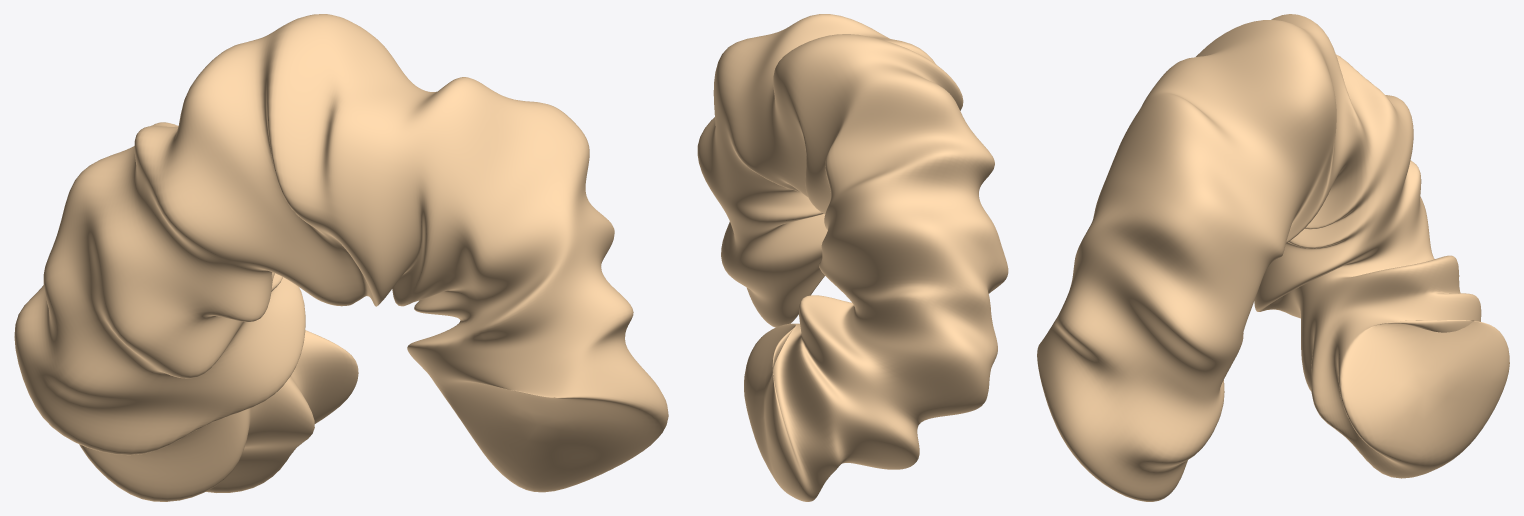
Rendered from form_8.glb.
3 renders of one model, left to right at view 1: azimuth 30°, elevation 25°; view 2: azimuth 150°, elevation 25°; view 3: azimuth 270°, elevation 25°, orthographic. The views are drawn at different scales.
Visible parts, largest first — view 1: Cube; view 2: Cube; view 3: Cube.
Boxes of the visible parts, x1,y1,x2,y2 form: Cube: [14, 14, 668, 501]; Cube: [697, 14, 1008, 501]; Cube: [1037, 14, 1509, 501].
Bounding box in the file's own units: 27.89 × 29.19 × 27.6.
